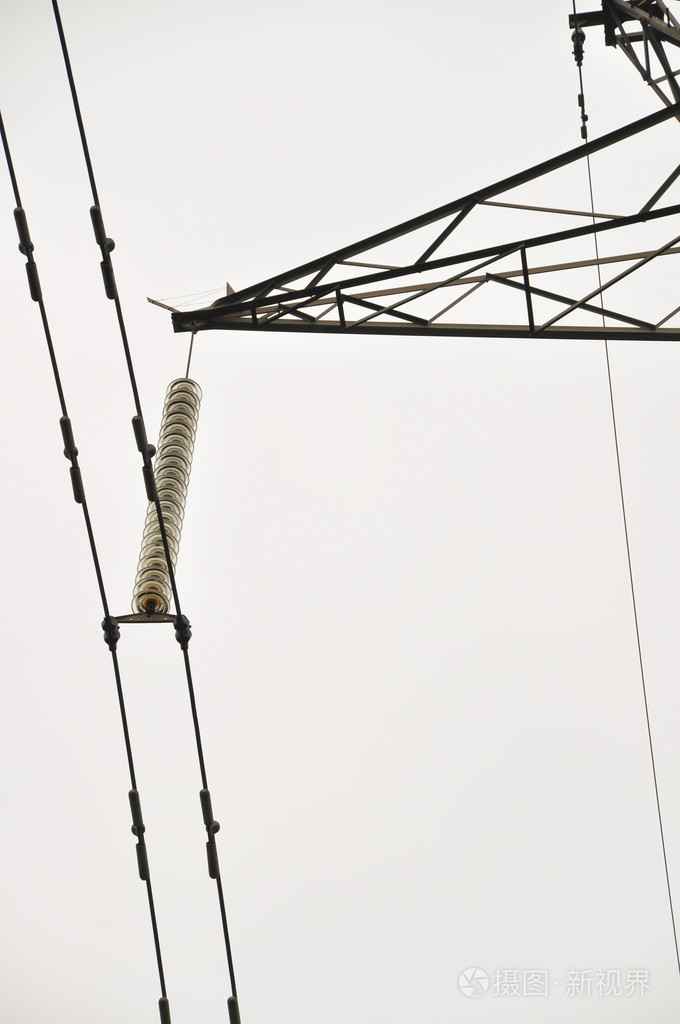insulator: (132, 375, 200, 614)
